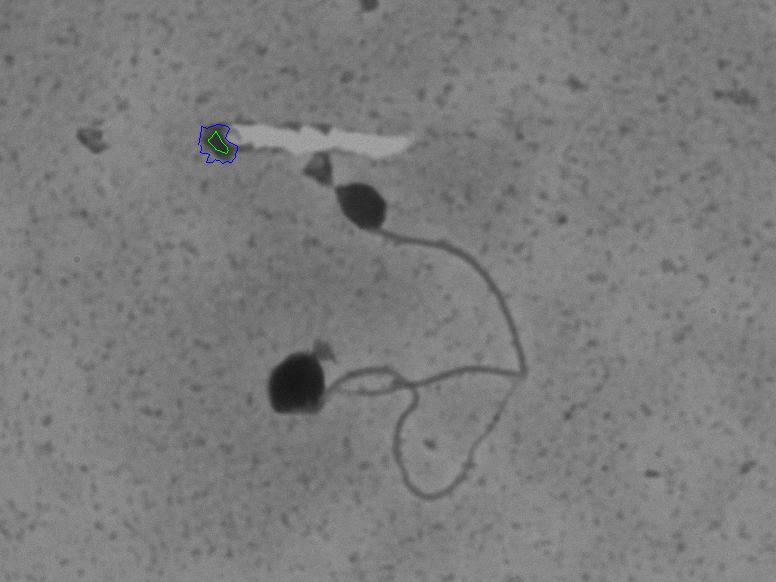Abnormal: (326, 166, 552, 389)
